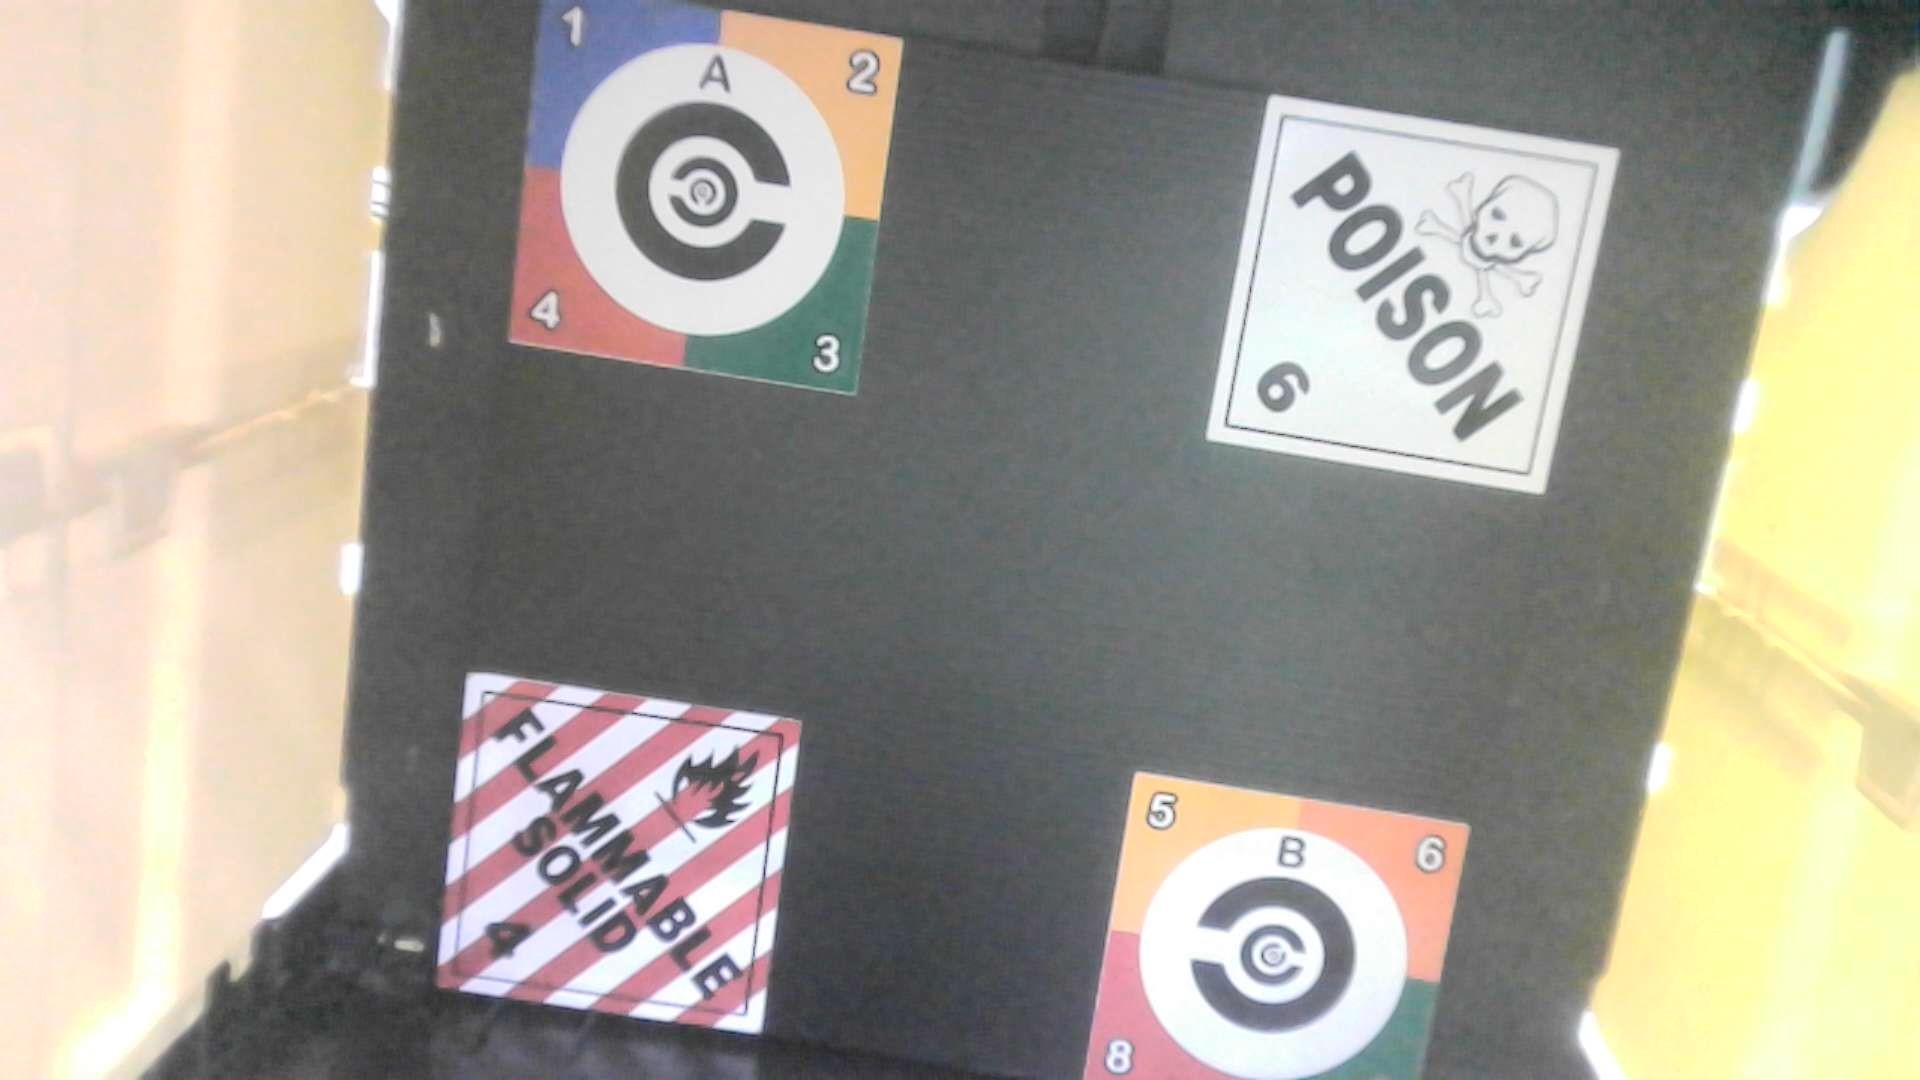flammable-solid: (434, 679, 804, 1046)
poison: (1207, 88, 1630, 513)
